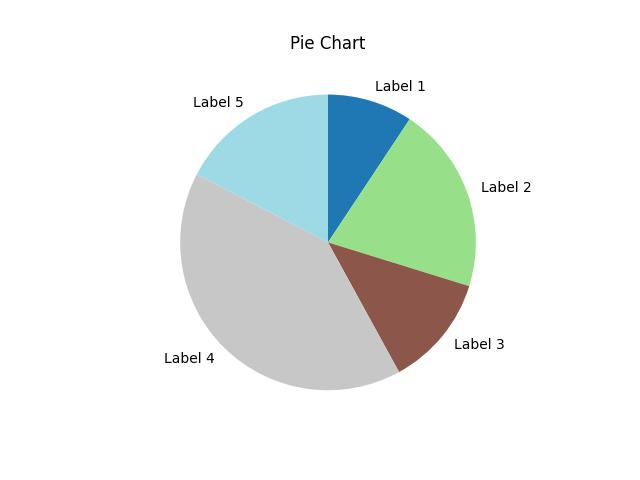sector: (179, 173, 400, 390), (329, 120, 478, 285), (197, 94, 329, 241), (327, 241, 469, 373), (327, 94, 409, 242)
